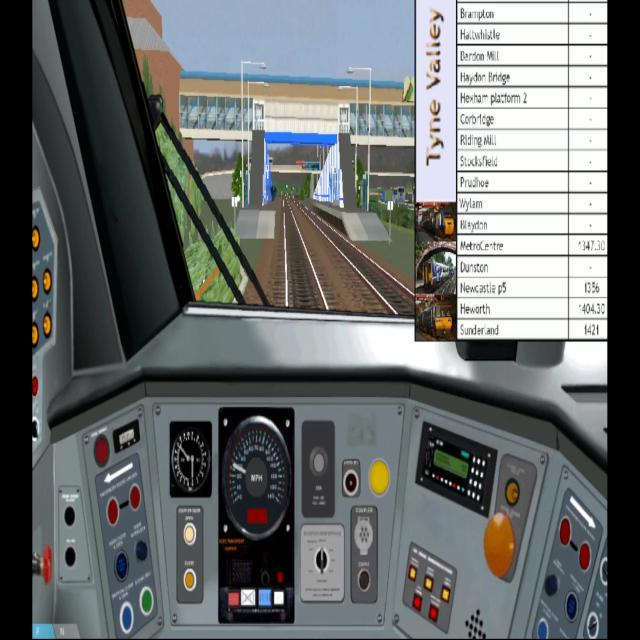Person: (264, 179, 273, 211)
Platform: (318, 204, 384, 242), (236, 196, 277, 241)
Spedometer: (218, 406, 296, 626)
Station: (185, 80, 415, 212)
Track: (292, 198, 417, 318), (267, 191, 342, 314)
